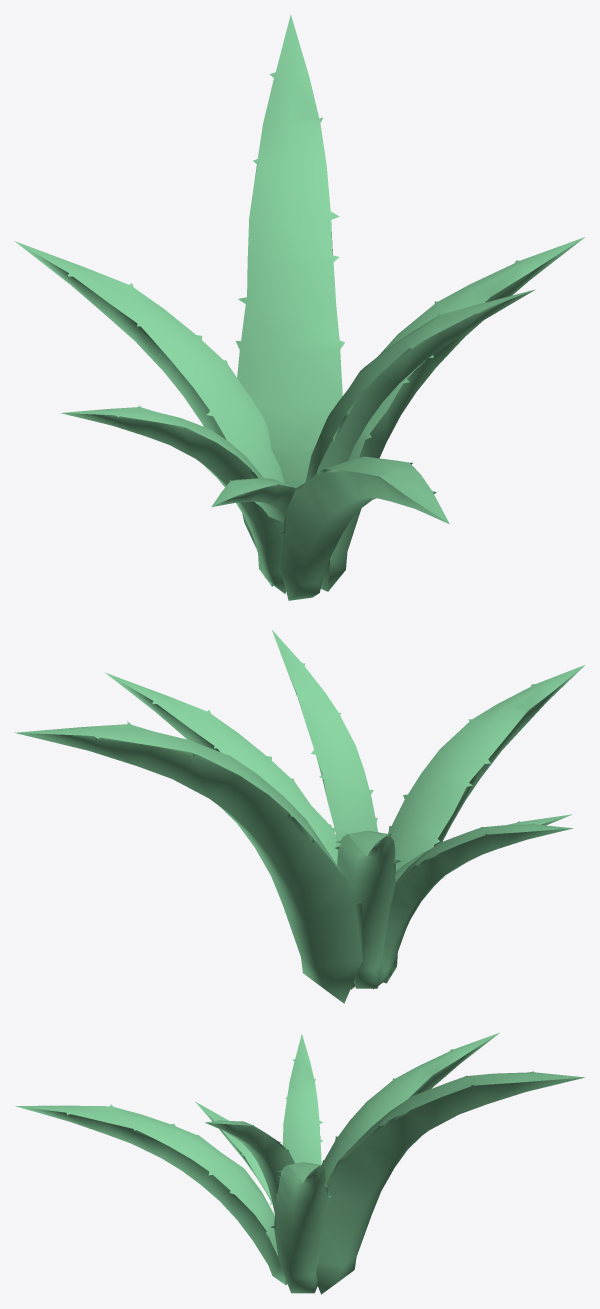
File: aloe.fbx
3 renders of one model, top to bottom at view 1: azimuth 30°, elevation 25°; view 2: azimuth 150°, elevation 25°; view 3: azimuth 270°, elevation 25°, orthographic. The views are drawn at different scales.
Visible parts, largest first — view 1: Aloe..001; view 2: Aloe..001; view 3: Aloe..001.
Part boxes in pixels (bbox=[...]): Aloe..001: bbox=[14, 14, 584, 600]; Aloe..001: bbox=[14, 630, 584, 1003]; Aloe..001: bbox=[15, 1032, 585, 1294].
Bounding box in the file's own units: 133 × 93.13 × 176.
